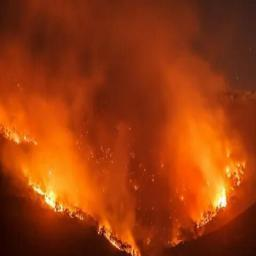Large fire: (0, 0, 256, 256)
